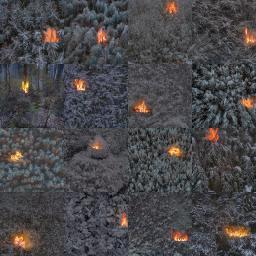Small fire: (225, 223, 252, 245), (11, 235, 32, 254), (242, 24, 256, 52), (166, 141, 183, 162), (36, 27, 64, 39), (159, 3, 180, 17), (238, 93, 255, 110), (130, 99, 150, 113), (85, 138, 102, 152), (121, 208, 132, 226), (97, 26, 110, 41), (20, 80, 30, 92), (12, 155, 22, 160)
